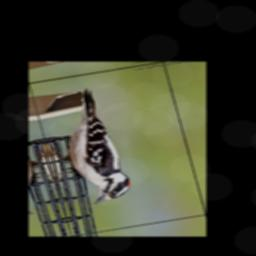Woodpecker: (45, 84, 137, 208)
